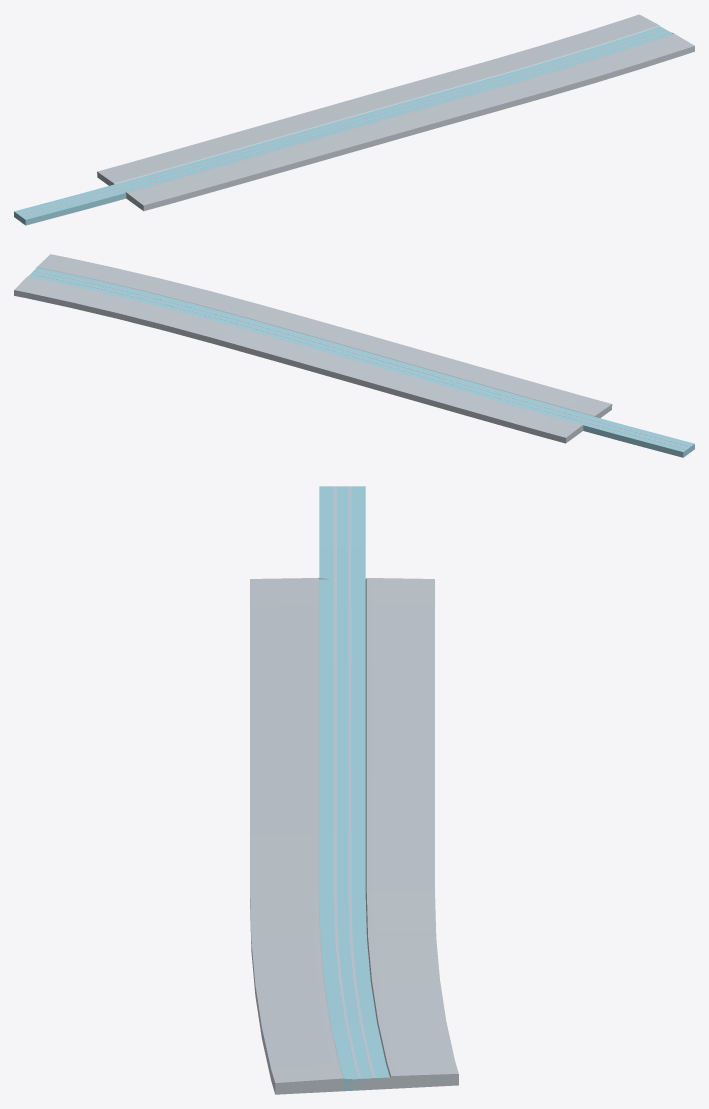
The model's file is Road_1_1_0.fbx.
3 views of the same model, one above another, from view 1: azimuth 30°, elevation 25°; view 2: azimuth 150°, elevation 25°; view 3: azimuth 270°, elevation 25° (orthographic). The views are drawn at different scales.
Visible parts, largest first — view 1: Road_1_1_0; view 2: Road_1_1_0; view 3: Road_1_1_0.
Boxes of the visible parts, x1,y1,x2,y2 form: Road_1_1_0: [14, 14, 694, 225]; Road_1_1_0: [14, 254, 694, 457]; Road_1_1_0: [250, 486, 458, 1094].
Bounding box in the file's own units: 26194 × 1060 × 3614.
